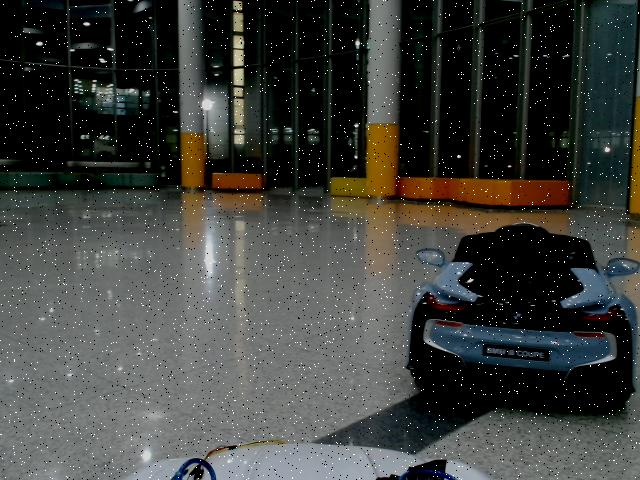car: (407, 224, 640, 411)
